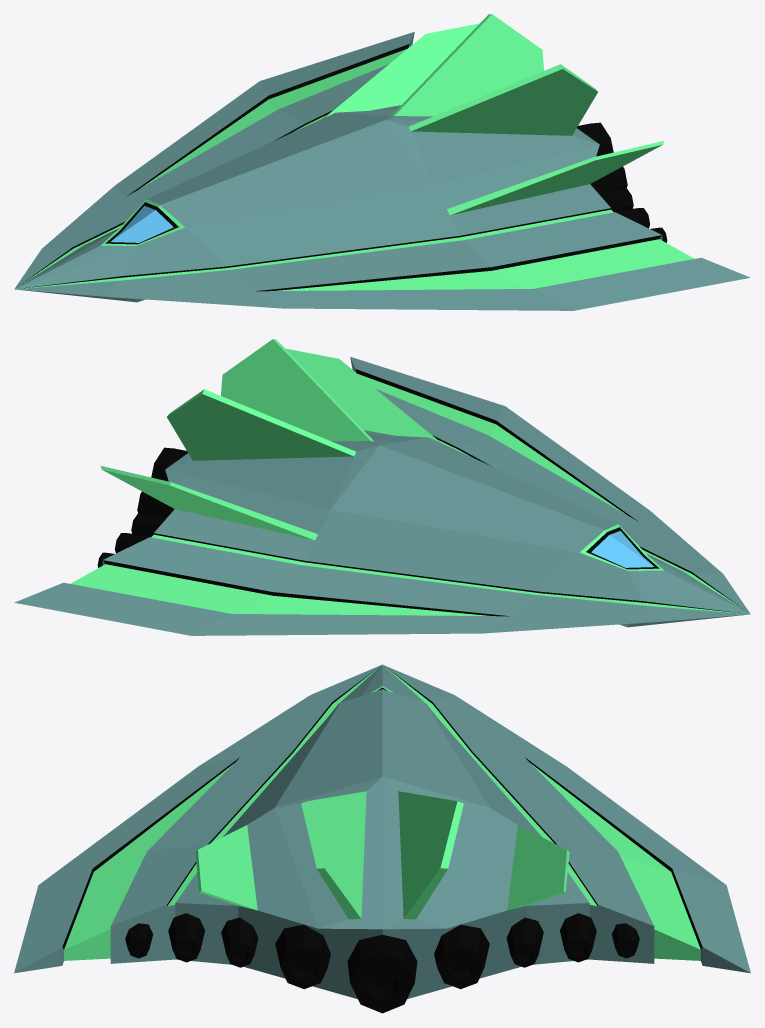
File: scout5.fbx
The picture shows the model from 3 angles, top to bottom: view 1: azimuth 30°, elevation 25°; view 2: azimuth 150°, elevation 25°; view 3: azimuth 270°, elevation 25°; orthographic projection. The views are drawn at different scales.
Visible parts, largest first — view 1: Scout5; view 2: Scout5; view 3: Scout5.
Part boxes in pixels (x1,y1,x2,y2): Scout5: [14, 14, 750, 310]; Scout5: [14, 339, 750, 635]; Scout5: [14, 664, 750, 1013].
Bounding box in the file's own units: 553 × 159 × 549.
